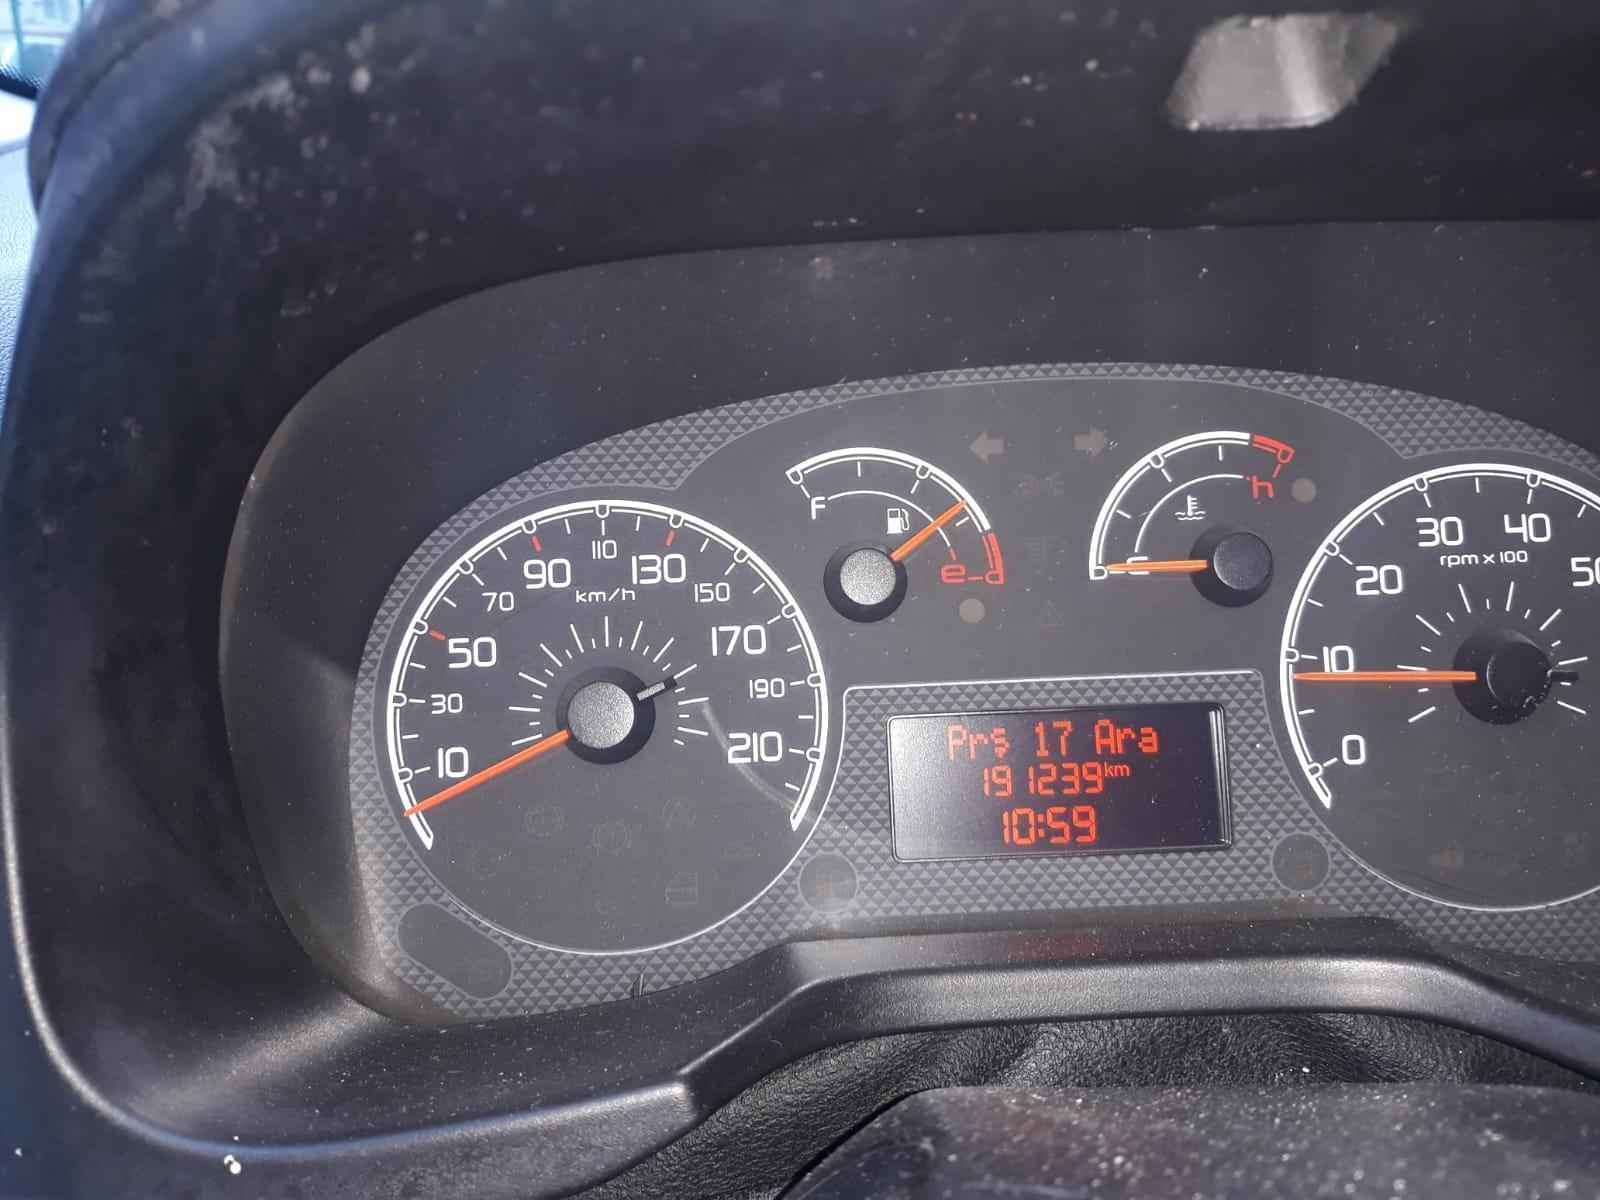0: (1010, 807, 1036, 845)
1: (1034, 721, 1048, 758), (1002, 811, 1010, 843), (1027, 765, 1036, 794), (981, 766, 990, 795)
2: (1036, 763, 1057, 794)
3: (1060, 763, 1080, 795)
5: (1044, 805, 1070, 845)
7: (1052, 720, 1072, 756)
9: (1071, 805, 1096, 842), (1081, 760, 1102, 793), (991, 764, 1012, 797)
X: (946, 724, 968, 760), (1094, 718, 1115, 755), (989, 727, 1010, 758), (1136, 726, 1158, 753), (1115, 727, 1136, 753), (968, 732, 986, 760), (1037, 813, 1044, 838), (1114, 764, 1129, 776), (1104, 761, 1112, 776)
odometer: (884, 701, 1233, 863)
